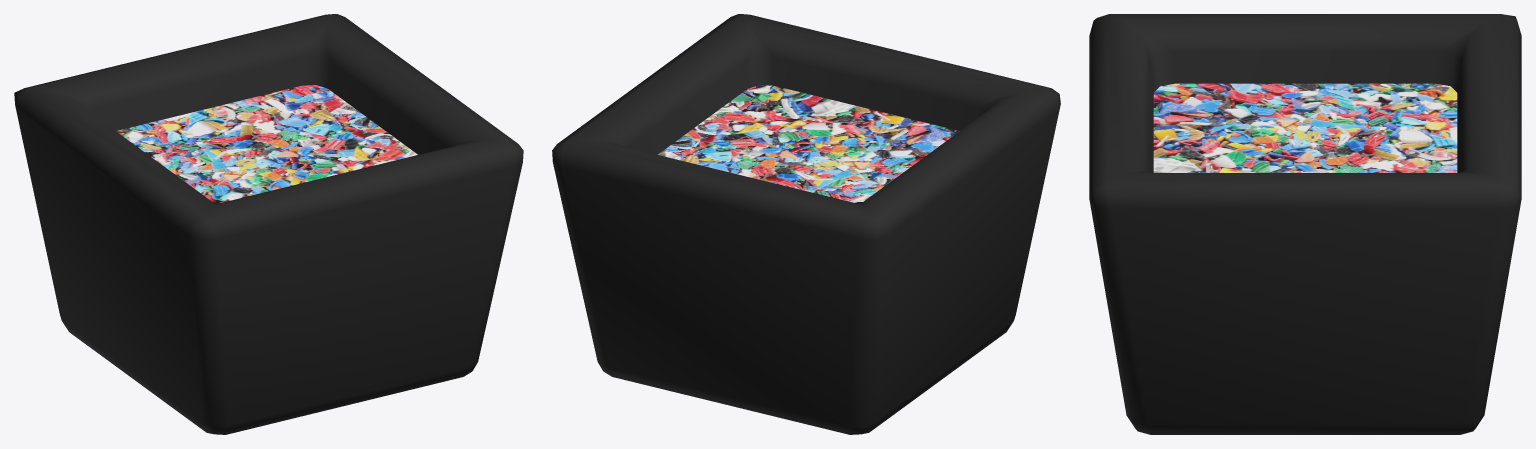
The model's file is CuboTriturados.fbx.
3 renders of one model, left to right at view 1: azimuth 30°, elevation 25°; view 2: azimuth 150°, elevation 25°; view 3: azimuth 270°, elevation 25°, orthographic. The views are drawn at different scales.
Visible parts, largest first — view 1: CuboTriturados; view 2: CuboTriturados; view 3: CuboTriturados.
Part boxes in pixels (left/top/right/bottom): CuboTriturados: left=14, top=14, right=523, bottom=434; CuboTriturados: left=552, top=14, right=1060, bottom=434; CuboTriturados: left=1089, top=14, right=1521, bottom=434.
Bounding box in the file's own units: 197 × 136 × 197.
2 materials, 1 textured.
